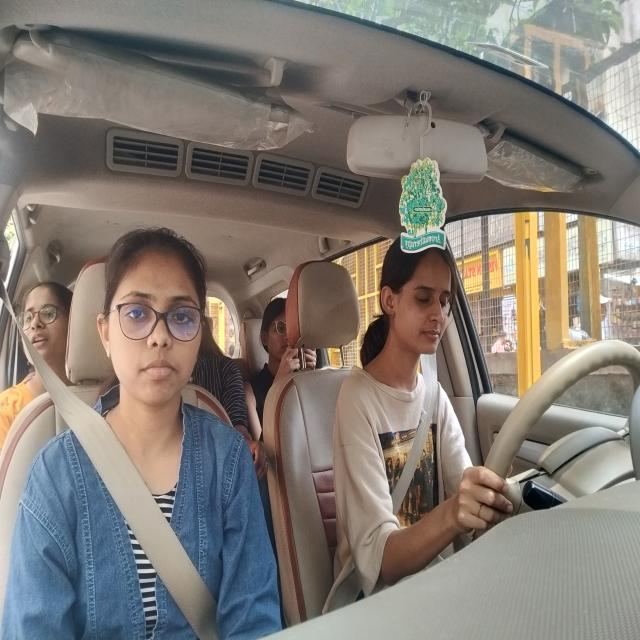drowsy: (381, 225, 460, 365)
person: (100, 230, 206, 398), (22, 278, 70, 364), (259, 295, 293, 371)
